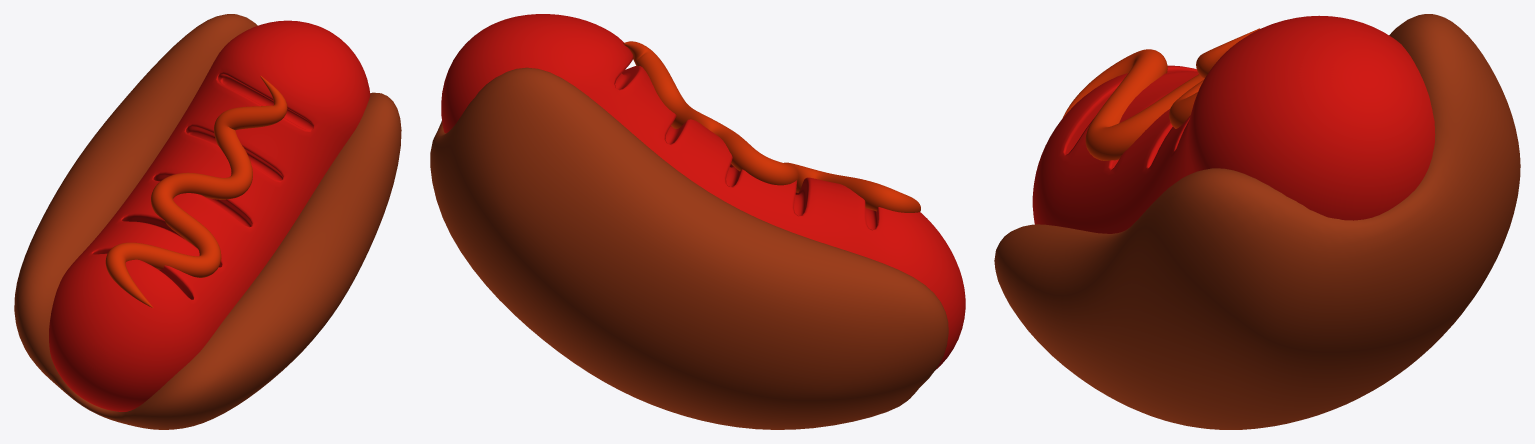
The model's file is Hotdog .obj.
3 renders of one model, left to right at view 1: azimuth 30°, elevation 25°; view 2: azimuth 150°, elevation 25°; view 3: azimuth 270°, elevation 25°, orthographic. The views are drawn at different scales.
Parts seen in each view (by area): view 1: Sphere.035_Sphere.068, Cube.049_Cube.137, NurbsPath.012; view 2: Cube.049_Cube.137, Sphere.035_Sphere.068, NurbsPath.012; view 3: Cube.049_Cube.137, Sphere.035_Sphere.068, NurbsPath.012.
Part boxes in pixels (box(x1,y1,x2,y2)): Sphere.035_Sphere.068: box(49, 20, 370, 411); Cube.049_Cube.137: box(14, 14, 401, 429); NurbsPath.012: box(105, 76, 287, 307); Cube.049_Cube.137: box(430, 67, 948, 429); Sphere.035_Sphere.068: box(441, 14, 965, 370); NurbsPath.012: box(623, 41, 920, 212); Cube.049_Cube.137: box(994, 14, 1520, 429); Sphere.035_Sphere.068: box(1032, 15, 1435, 233); NurbsPath.012: box(1062, 28, 1259, 160).
Bounding box in the file's own units: 8.14 × 6.28 × 6.28.
